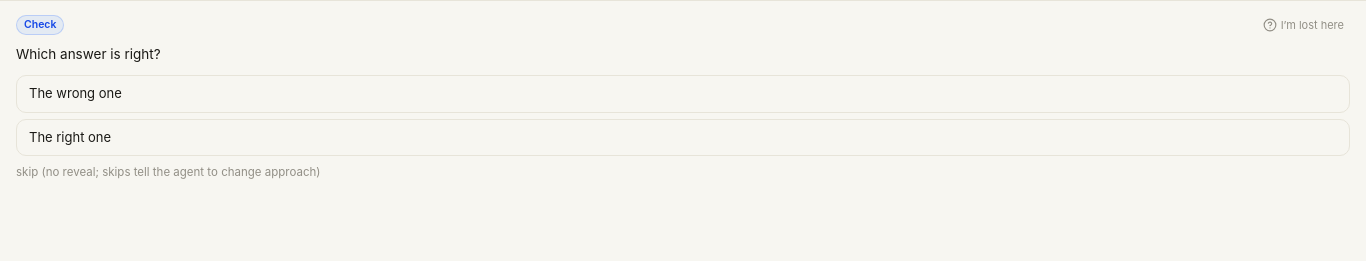
Test: CheckpointPart › grades a wrong mcq click: reveal, misconception, 'not quite'
Click the button "The wrong one" at [75, 93], box [16,75,1350,113]
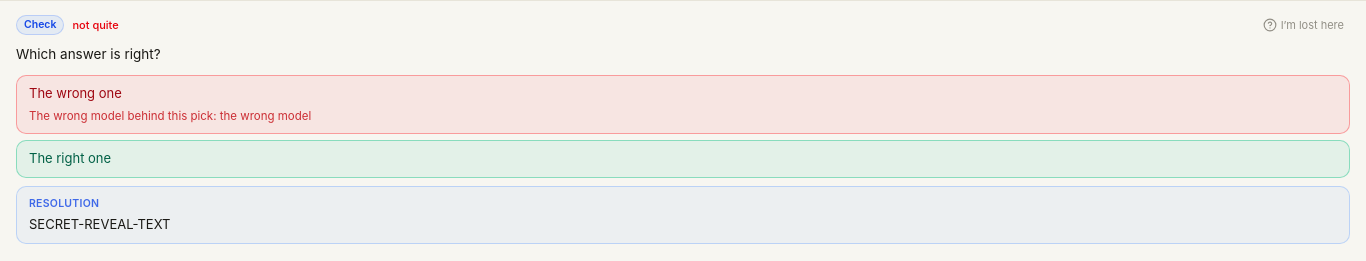
Now the element showing "Resolution SECRET-REVEAL-TEXT" is shown, box [16,186,1350,244]
Now the text "The wrong model behind this pick: the wrong model" is shown, box [29,109,311,123]
Now the text "not quite" is shown, box [72,17,119,34]
